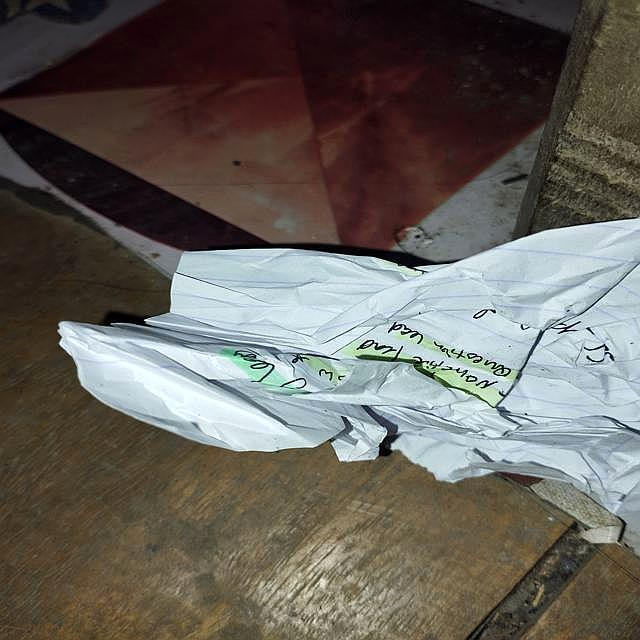Biodegradable: (65, 217, 640, 547)
